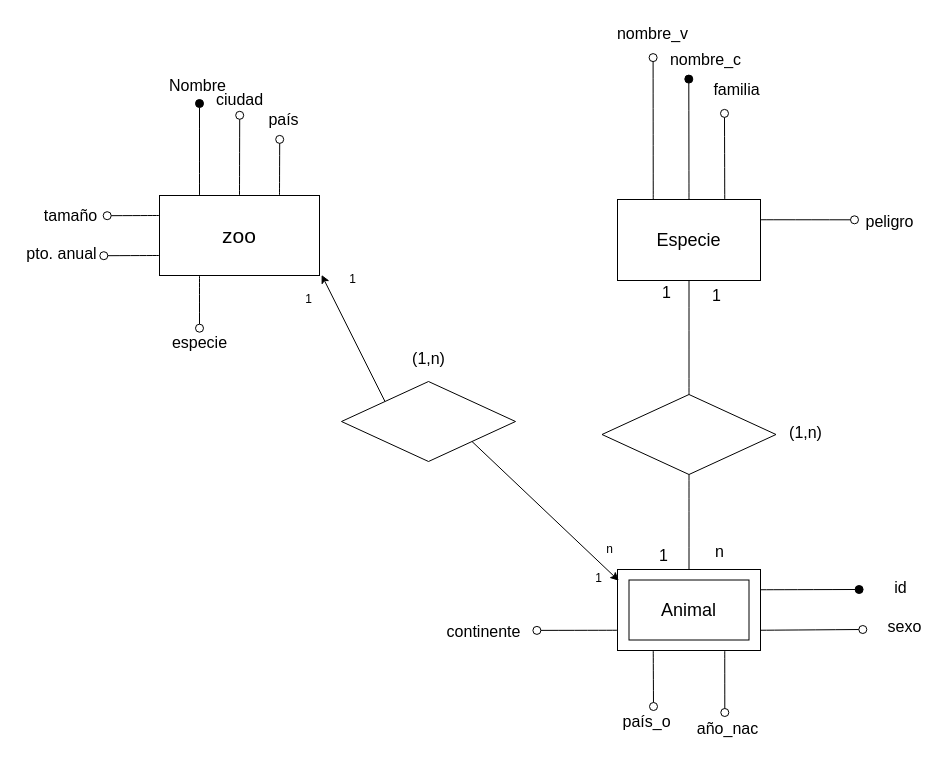
Image size: 947x760. Some labels were removed from this diagram. Each missing label, with the centre of its shape:
"es albergado" belongs at (x=428, y=421).
"pertenece a" belongs at (x=688, y=434).
